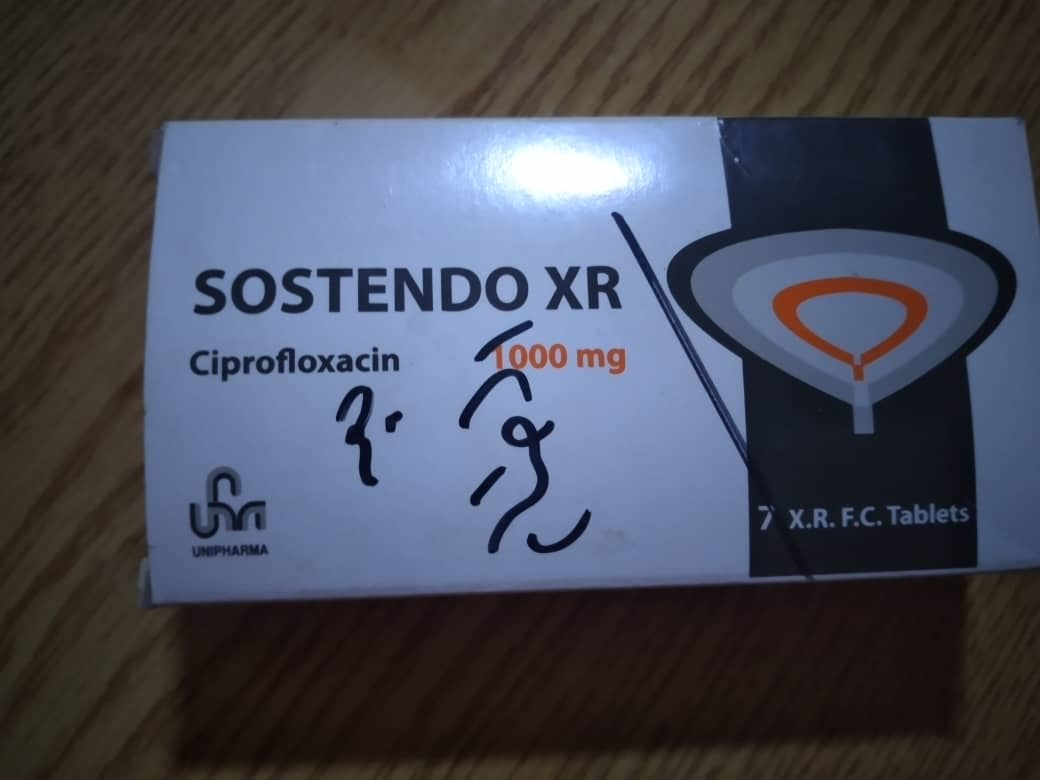Medicine: (126, 104, 1040, 658)
